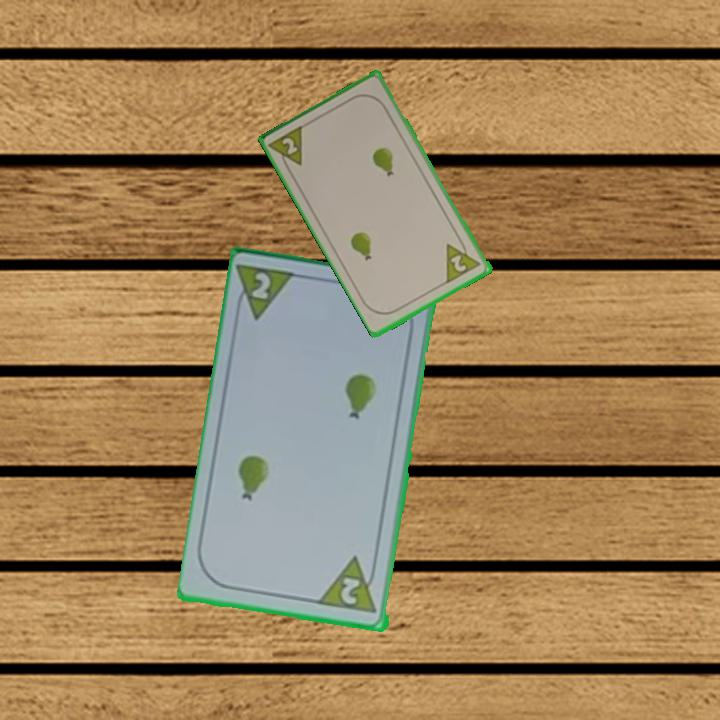2p: (266, 122, 307, 176), (442, 234, 484, 286), (337, 574, 365, 608), (248, 269, 274, 303)
